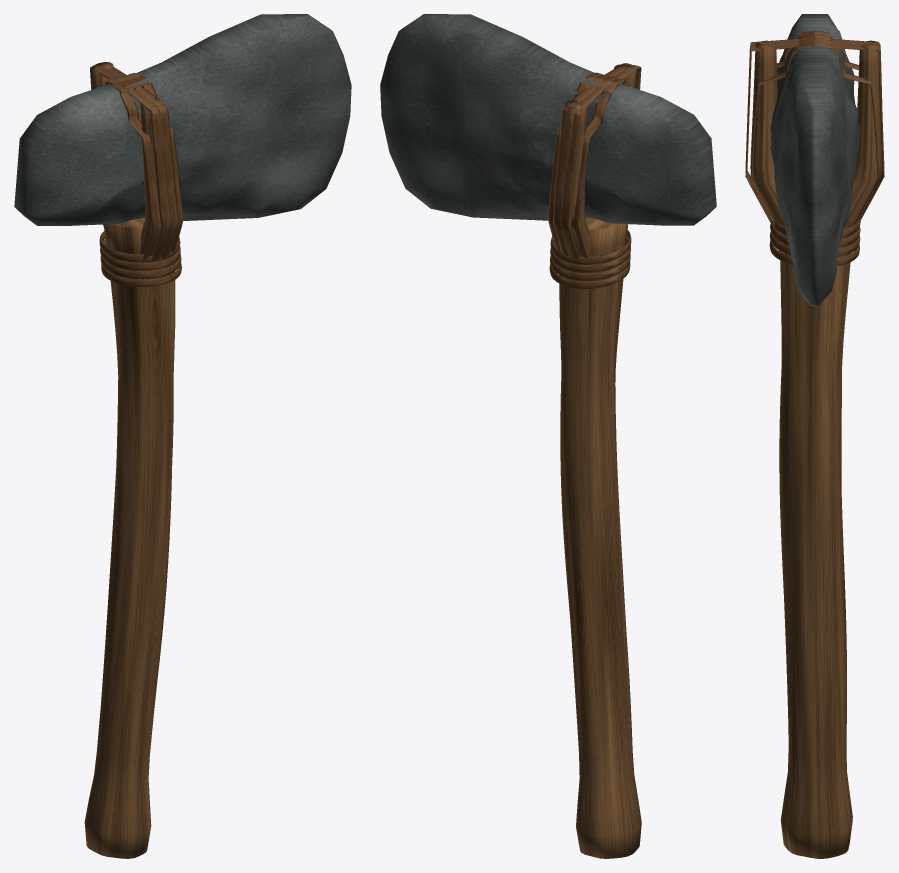
File: stone_survival_axe.glb
The picture shows the model from 3 angles, left to right: view 1: azimuth 30°, elevation 25°; view 2: azimuth 150°, elevation 25°; view 3: azimuth 270°, elevation 25°; orthographic projection. The views are drawn at different scales.
Visible parts, largest first — view 1: StoneHead, WoodenHandle, RawhideLashings; view 2: StoneHead, WoodenHandle, RawhideLashings; view 3: WoodenHandle, StoneHead, RawhideLashings.
Part boxes in pixels (x1,y1,x2,y2): StoneHead: [14, 14, 351, 225]; WoodenHandle: [84, 62, 175, 858]; RawhideLashings: [90, 67, 183, 286]; StoneHead: [380, 14, 716, 225]; WoodenHandle: [559, 64, 641, 858]; RawhideLashings: [547, 63, 641, 288]; WoodenHandle: [750, 40, 882, 858]; StoneHead: [770, 14, 860, 305]; RawhideLashings: [745, 30, 884, 266].
Size of the model in its own units: 0.247 by 0.5689 by 0.0853.
Materials: 3 (3 with a texture image).
